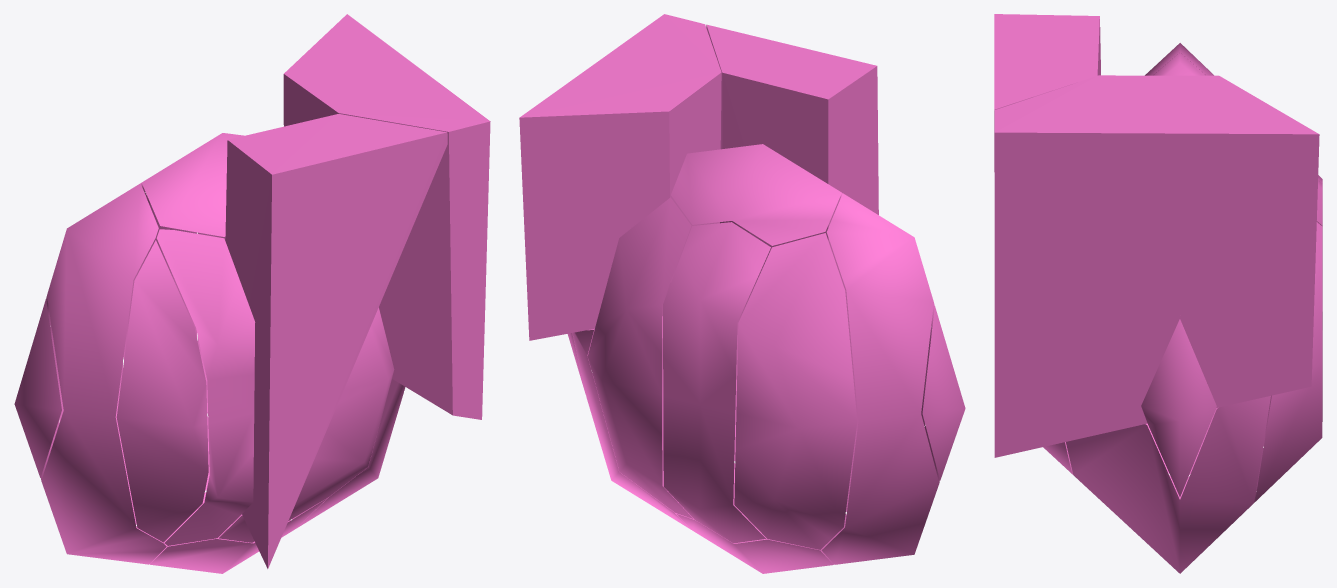
Rendered from hexpieces.fbx.
The picture shows the model from 3 angles, left to right: view 1: azimuth 30°, elevation 25°; view 2: azimuth 150°, elevation 25°; view 3: azimuth 270°, elevation 25°; orthographic projection. The views are drawn at different scales.
Visible parts, largest first — view 1: Hexgon_cell.006, Hexgon_cell.009, Hexgon_cell.008, Hexgon_cell.004, Hexgon_cell.007, Hexgon_cell.001, Hexgon_cell.011, Hexgon_cell.010, Hexgon_cell.013, Hexgon_cell, Hexgon_cell.012; view 2: Hexgon_cell.009, Hexgon_cell.002, Hexgon_cell.008, Hexgon_cell.012, Hexgon_cell.006, Hexgon_cell.003, Hexgon_cell.011, Hexgon_cell.010, Hexgon_cell.013, Hexgon_cell; view 3: Hexgon_cell.009, Hexgon_cell, Hexgon_cell.006, Hexgon_cell.005, Hexgon_cell.003, Hexgon_cell.008, Hexgon_cell.011, Hexgon_cell.001.
Part boxes in pixels (x1,y1,x2,y2): Hexgon_cell.006: (225, 114, 447, 568); Hexgon_cell.009: (283, 14, 490, 419); Hexgon_cell.008: (40, 183, 166, 564); Hexgon_cell.004: (116, 240, 208, 542); Hexgon_cell.007: (156, 229, 255, 545); Hexgon_cell.001: (219, 307, 394, 542); Hexgon_cell.011: (141, 133, 244, 236); Hexgon_cell.010: (14, 299, 61, 477); Hexgon_cell.013: (136, 492, 327, 573); Hexgon_cell: (292, 379, 404, 528); Hexgon_cell.012: (123, 195, 209, 490); Hexgon_cell.009: (519, 14, 721, 340); Hexgon_cell.002: (734, 233, 857, 549); Hexgon_cell.008: (821, 193, 939, 564); Hexgon_cell.012: (663, 222, 770, 543); Hexgon_cell.006: (706, 24, 878, 428); Hexgon_cell.003: (587, 197, 693, 518); Hexgon_cell.011: (671, 144, 842, 245); Hexgon_cell.010: (922, 306, 965, 480); Hexgon_cell.013: (677, 463, 846, 573); Hexgon_cell: (572, 316, 694, 529); Hexgon_cell.009: (994, 75, 1319, 457); Hexgon_cell: (1066, 396, 1270, 573); Hexgon_cell.006: (994, 14, 1100, 171); Hexgon_cell.005: (1141, 319, 1216, 496); Hexgon_cell.003: (1254, 222, 1322, 502); Hexgon_cell.008: (1145, 43, 1218, 474); Hexgon_cell.011: (1153, 52, 1205, 75); Hexgon_cell.001: (1043, 442, 1073, 474).
Size of the model in its own units: 80.2 by 86.32 by 49.25.
